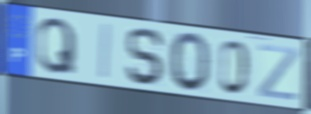0: (219, 39, 251, 96)
I: (98, 22, 113, 83)
O: (169, 30, 212, 94)
Q: (36, 17, 77, 77)
S: (125, 25, 166, 88)
Z: (256, 42, 301, 103)
